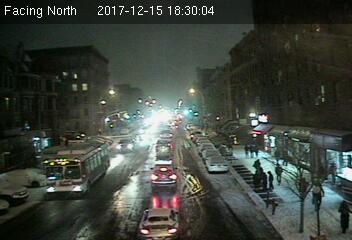bus: (44, 141, 110, 196)
car: (138, 207, 183, 240), (149, 162, 179, 191), (205, 155, 228, 172), (116, 137, 134, 153), (155, 139, 171, 152)
pedestrian: (268, 168, 277, 190)
